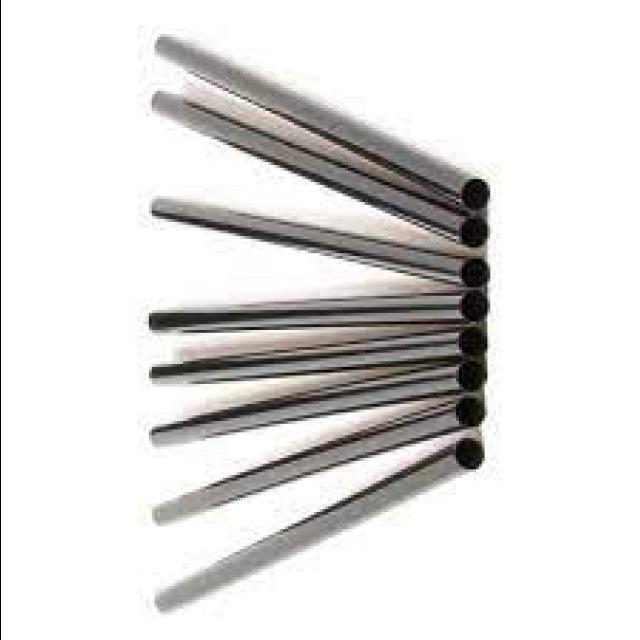straw: (155, 35, 488, 211), (154, 439, 482, 611), (151, 96, 486, 246), (152, 396, 482, 525), (150, 199, 487, 288), (149, 358, 484, 446), (149, 330, 462, 384), (148, 290, 486, 327)
